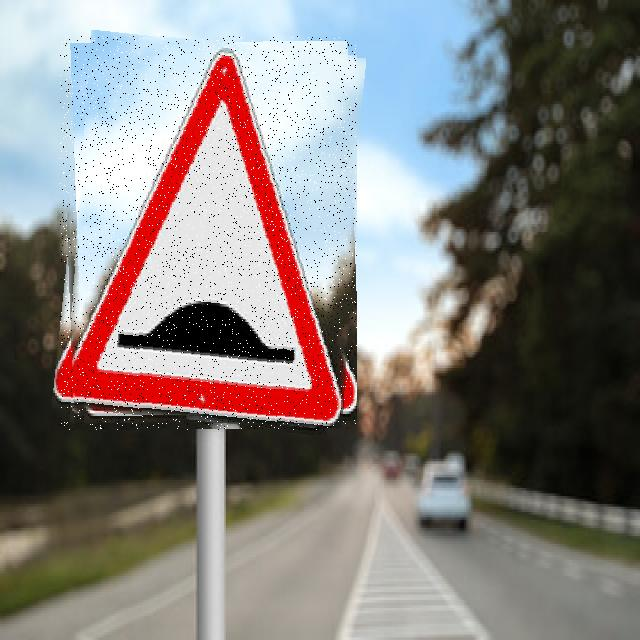hump: (60, 36, 357, 430)
